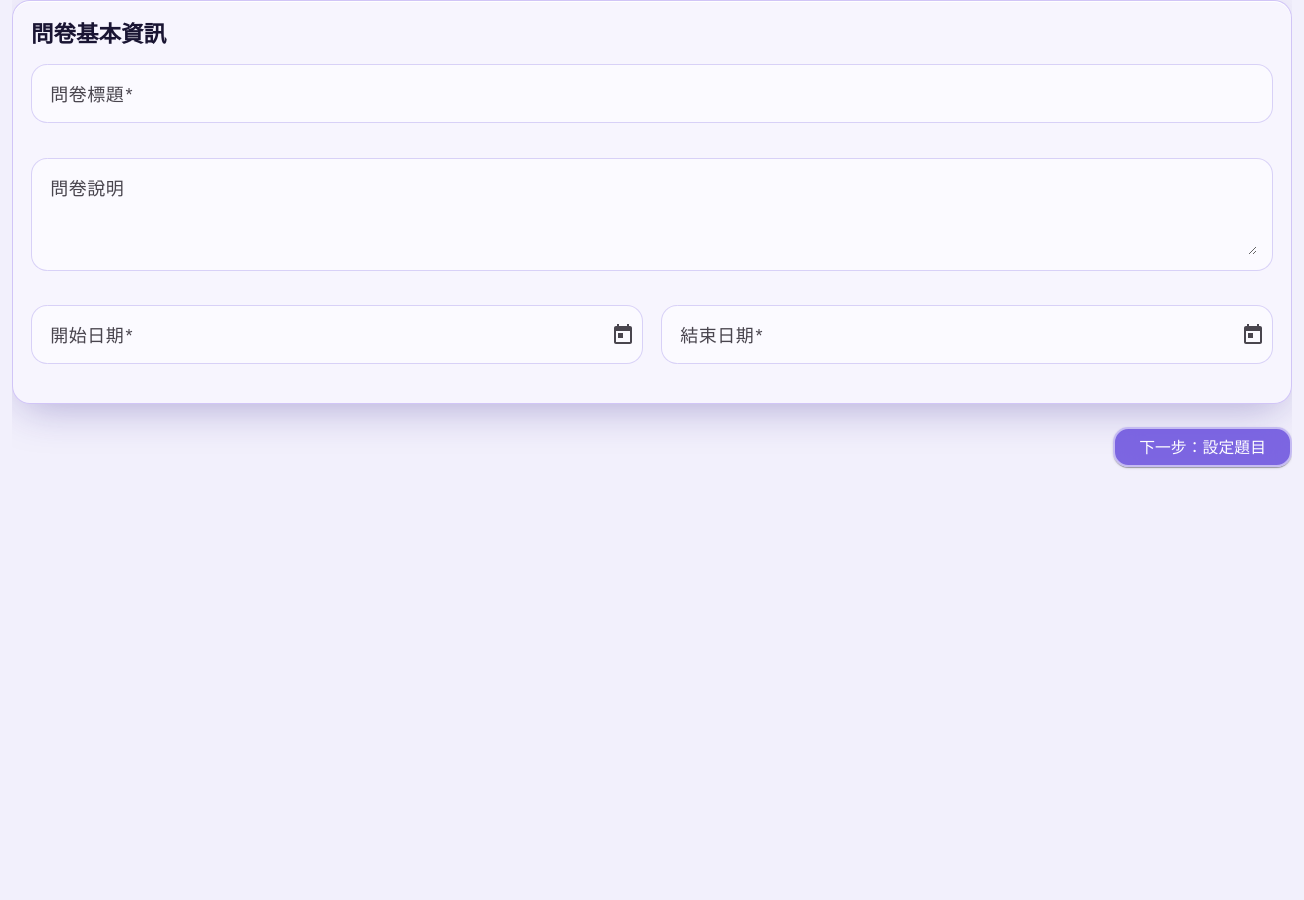
Scenario: SurveyEditorComponent › 題目沒填完時，應留在 STEP 1
Step 1. Type "員工滿意度調查" into the field labelled "問卷標題" → {"x": 654, "y": 94}, box [51,80,1257,107]
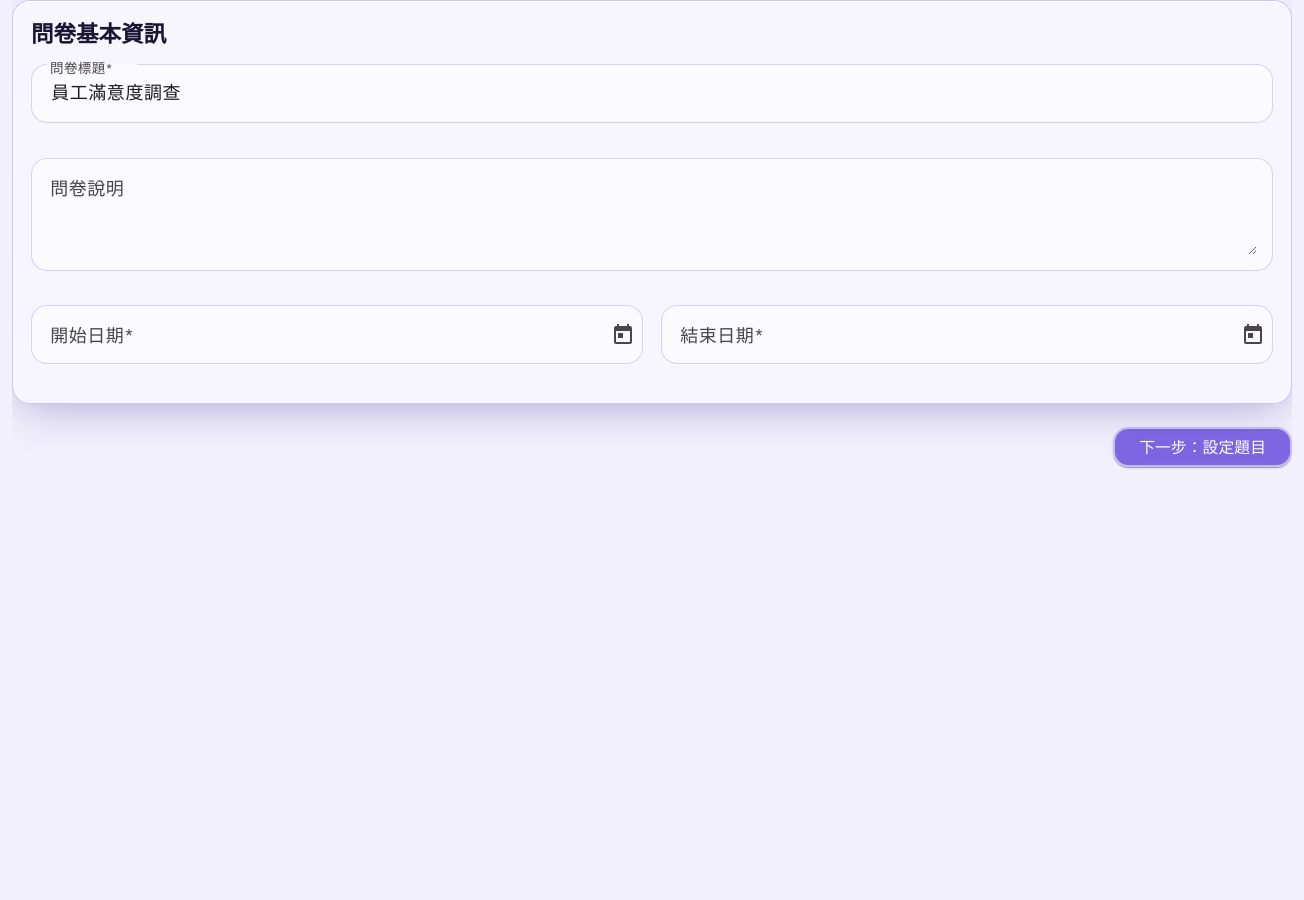
Step 2. Type "2026-01-01" into the field labelled "開始日期" → {"x": 325, "y": 334}, box [51,321,599,348]
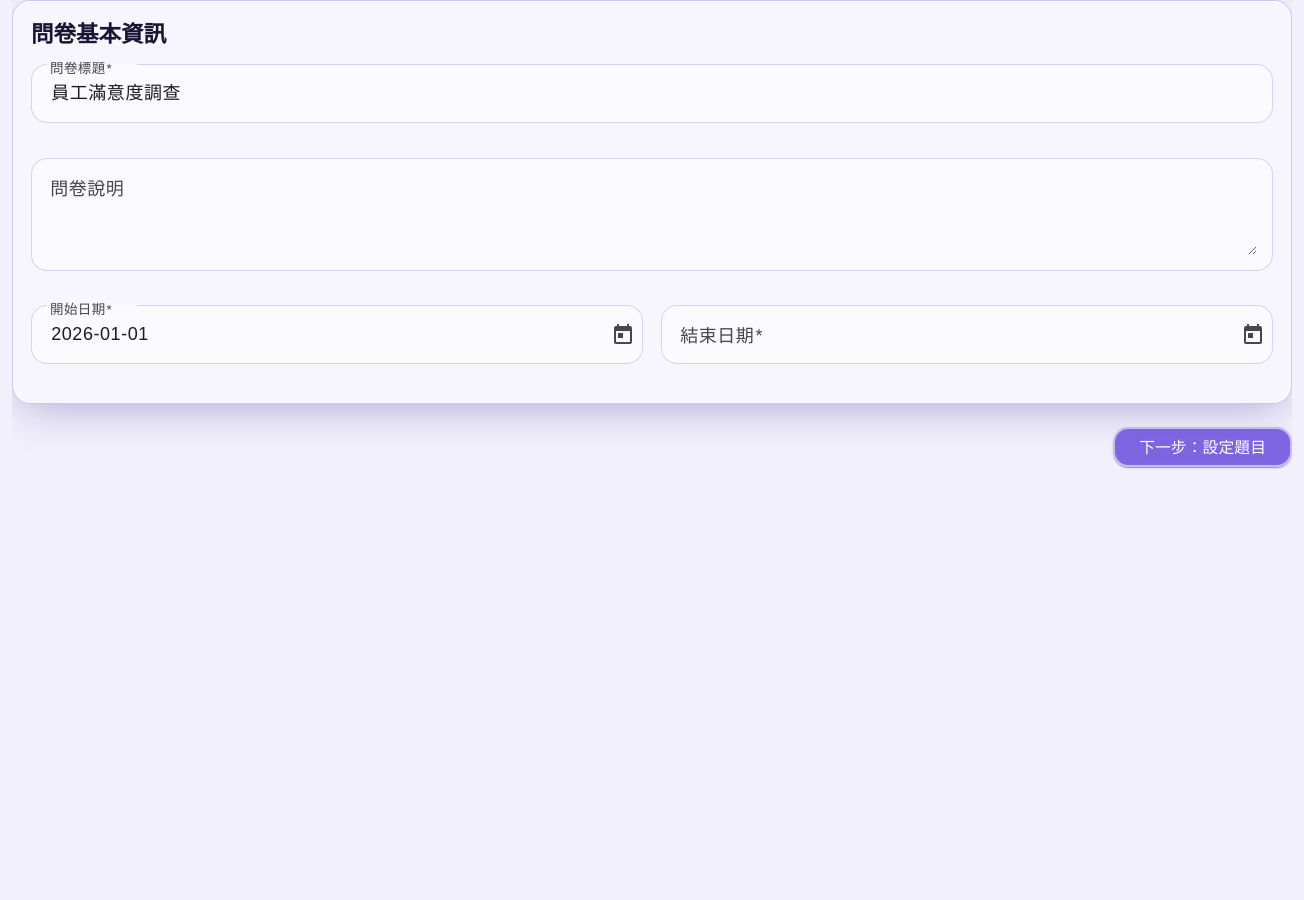
Step 3. Type "2026-12-31" into the field labelled "結束日期" → {"x": 955, "y": 334}, box [681,321,1229,348]
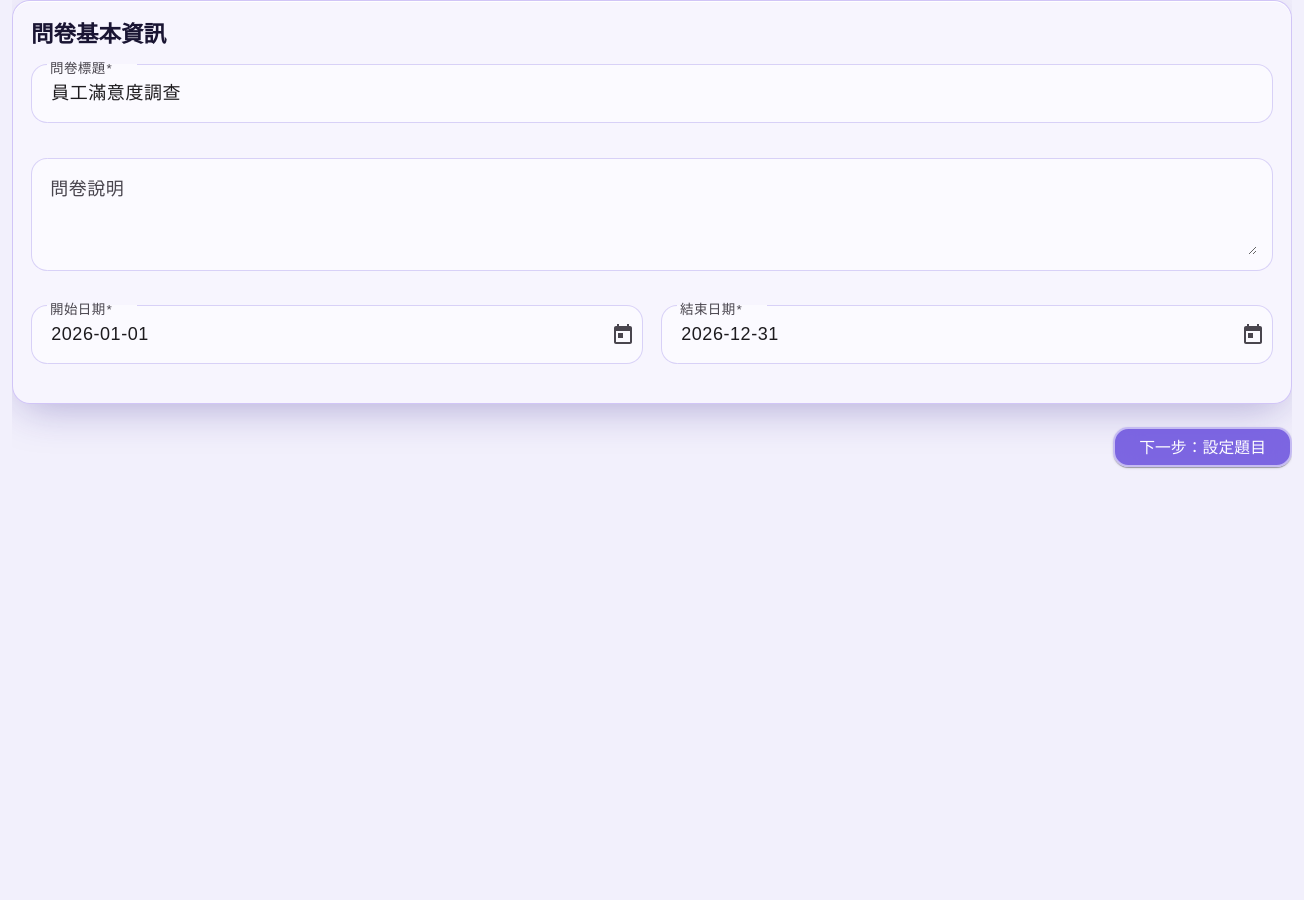
Step 4. Click the button "下一步：設定題目" → {"x": 1203, "y": 446}, box [1113,426,1292,466]
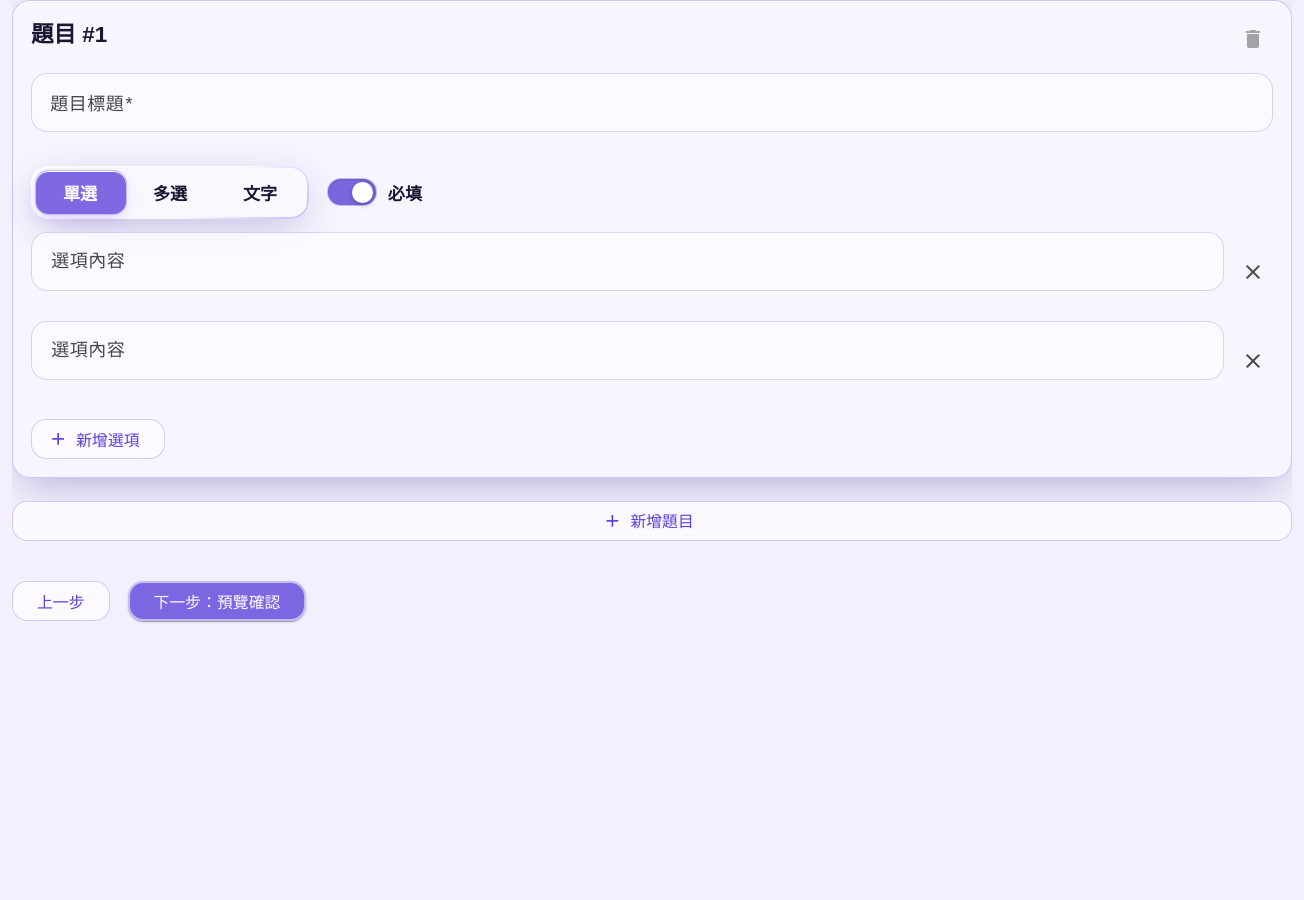
Step 5. Click the button "下一步：預覽確認" → {"x": 217, "y": 601}, box [128,581,306,621]
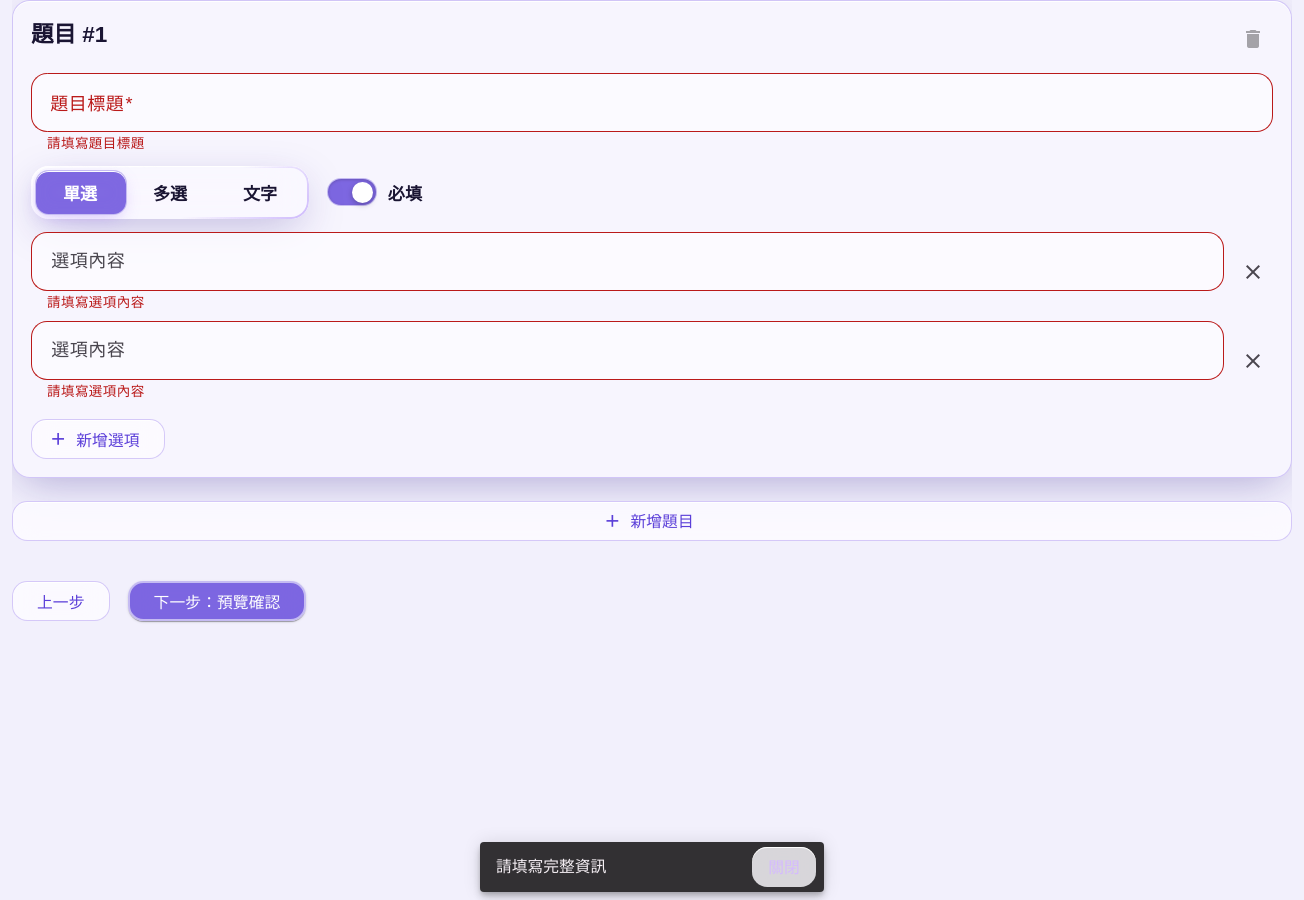
Expected: the text "請填寫題目標題" is shown, [47,136,145,150]
Expected: the text "請填寫選項內容" is shown, [47,295,145,310]
